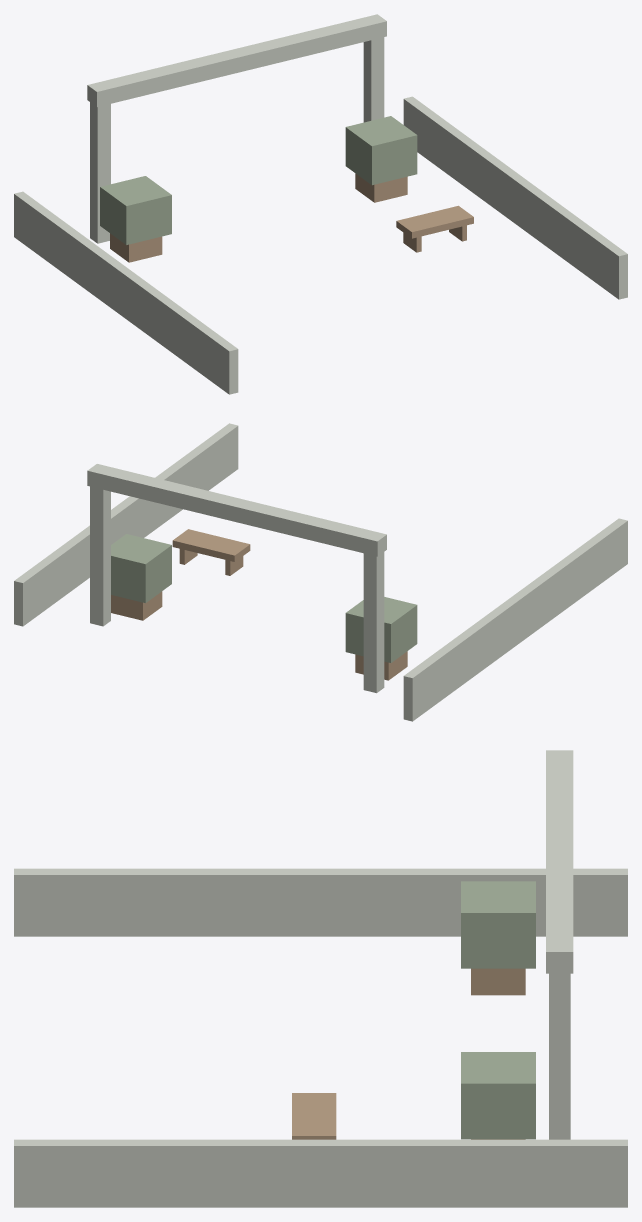
File: environment.glb
3 renders of one model, top to bottom at view 1: azimuth 30°, elevation 25°; view 2: azimuth 150°, elevation 25°; view 3: azimuth 270°, elevation 25°, orthographic. The views are drawn at different scales.
Visible parts, largest first — view 1: Low wall (×2), Foliage (×2), Lintel, Column (×2), Planter (×2), Bench; view 2: Low wall (×2), Lintel, Foliage (×2), Column (×2), Bench, Planter (×2); view 3: Low wall (×2), Foliage (×2), Lintel, Column, Bench, Planter.
Boxes of the visible parts, x1,y1,x2,y2 form: Low wall (×2): (14,96,627,394); Foliage (×2): (100,116,417,244); Lintel: (87,14,386,106); Column (×2): (90,37,384,243); Planter (×2): (110,173,407,262); Bench: (396,205,473,238); Low wall (×2): (14,423,627,721); Lintel: (87,464,386,556); Foliage (×2): (111,534,417,662); Column (×2): (90,486,384,693); Bench: (172,529,250,561); Planter (×2): (111,591,407,680); Low wall (×2): (14,868,627,1207); Foliage (×2): (461,881,535,1139); Lintel: (546,750,573,973); Column: (549,973,570,1139); Bench: (292,1093,336,1139); Planter: (471,968,525,995).
Size of what is drawn, in the model's own units: 9.62 by 3.52 by 9.
